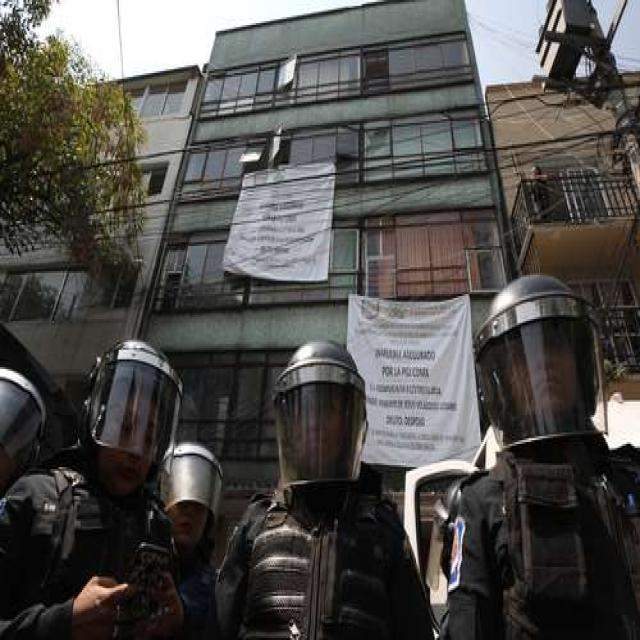stamps: (348, 293, 478, 460), (225, 167, 335, 279)
